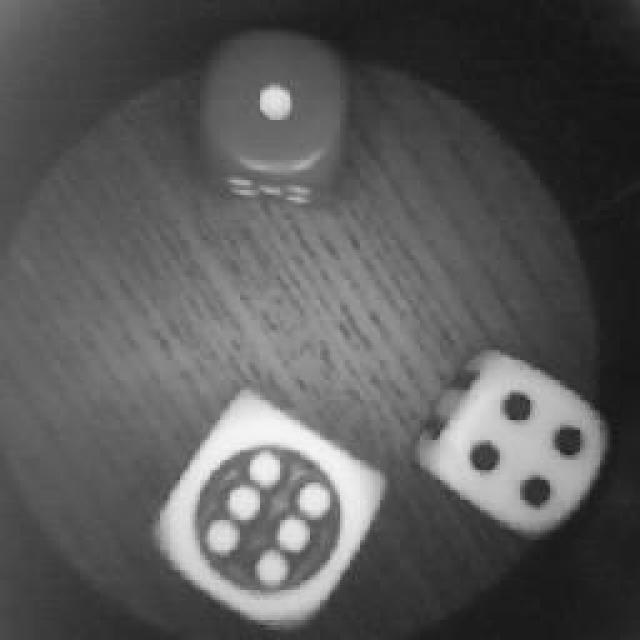dice_1: (195, 28, 357, 200)
dice_4: (432, 352, 602, 532)
dice_6: (160, 387, 382, 625)
